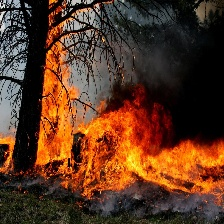fire: (48, 1, 224, 207), (1, 128, 16, 171)
smoke: (144, 2, 223, 143)
